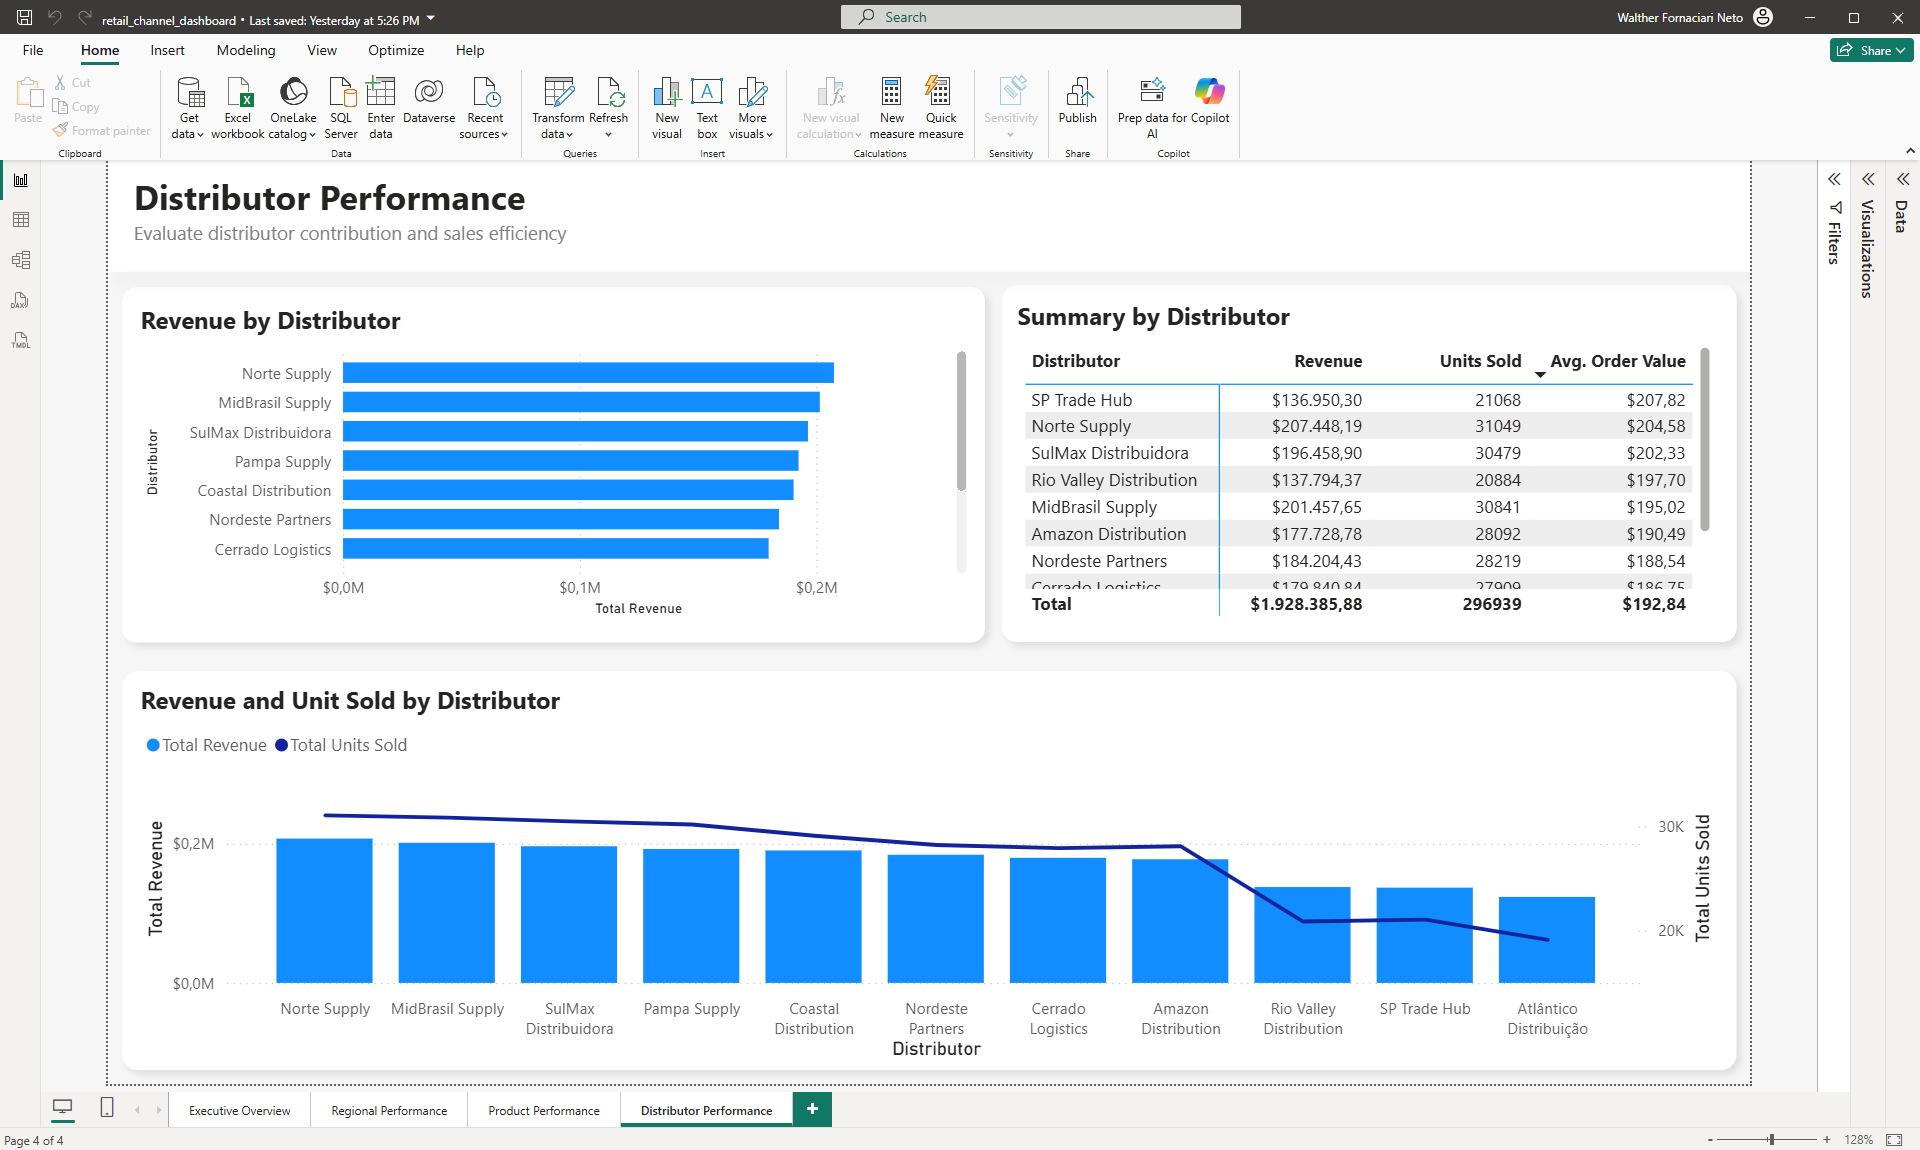

What the dashboard file says about the page in this screenshot:
{"tool":"powerbi","page":{"name":"Distributor Performance","canvas":[1280,720],"ordinal":3},"visuals":[{"type":"shape","box":[0,387,1280,333],"z":0},{"type":"textbox","box":[20,403,546,40],"z":500},{"type":"shape","box":[0,87.8,694.4,298.9],"z":1000},{"type":"textbox","box":[20,106.7,263.3,40],"z":2000},{"type":"shape","box":[685.6,86.7,594.4,300],"z":3000},{"type":"textbox","box":[703.3,103.3,263.3,40],"z":4000},{"type":"barChart","title":"Revenue by Distributor","fields":{"Y":["public fact_sales.Total Revenue"],"Category":["public dim_distributor.distributor_name"]},"box":[24.4,135.6,650,224.4],"z":5000},{"type":"pivotTable","fields":{"Values":["public fact_sales.Total Revenue","public fact_sales.Total Units Sold","public fact_sales.Average Order Value"],"Rows":["public dim_distributor.distributor_name"]},"box":[710,140,544.4,220],"z":6000},{"type":"lineClusteredColumnComboChart","title":"Revenue and Units Sold by Distributor","fields":{"Y":["public fact_sales.Total Revenue"],"Y2":["public fact_sales.Total Units Sold"],"Category":["public dim_distributor.distributor_name"]},"box":[24.4,435.6,1230,270],"z":7000},{"type":"shape","box":[0,71,1280,19],"z":8000},{"type":"textbox","box":[0,0,1280,86.7],"z":9000}]}

Visuals, with their boxes on the page's 1280x720 design canvas (x1, y1, x2, y2). These are canvas units, not pixel positions in the 1920x1150 screenshot, which may show the page scaled, cropped or inside an application window:
shape: Rect(0, 387, 1280, 720)
textbox: Rect(20, 403, 566, 443)
shape: Rect(0, 88, 694, 387)
textbox: Rect(20, 107, 283, 147)
shape: Rect(686, 87, 1280, 387)
textbox: Rect(703, 103, 967, 143)
"Revenue by Distributor" barChart: Rect(24, 136, 674, 360)
pivotTable - public fact_sales.Total Revenue x public fact_sales.Total Units Sold: Rect(710, 140, 1254, 360)
"Revenue and Units Sold by Distributor" lineClusteredColumnComboChart: Rect(24, 436, 1254, 706)
shape: Rect(0, 71, 1280, 90)
textbox: Rect(0, 0, 1280, 87)
